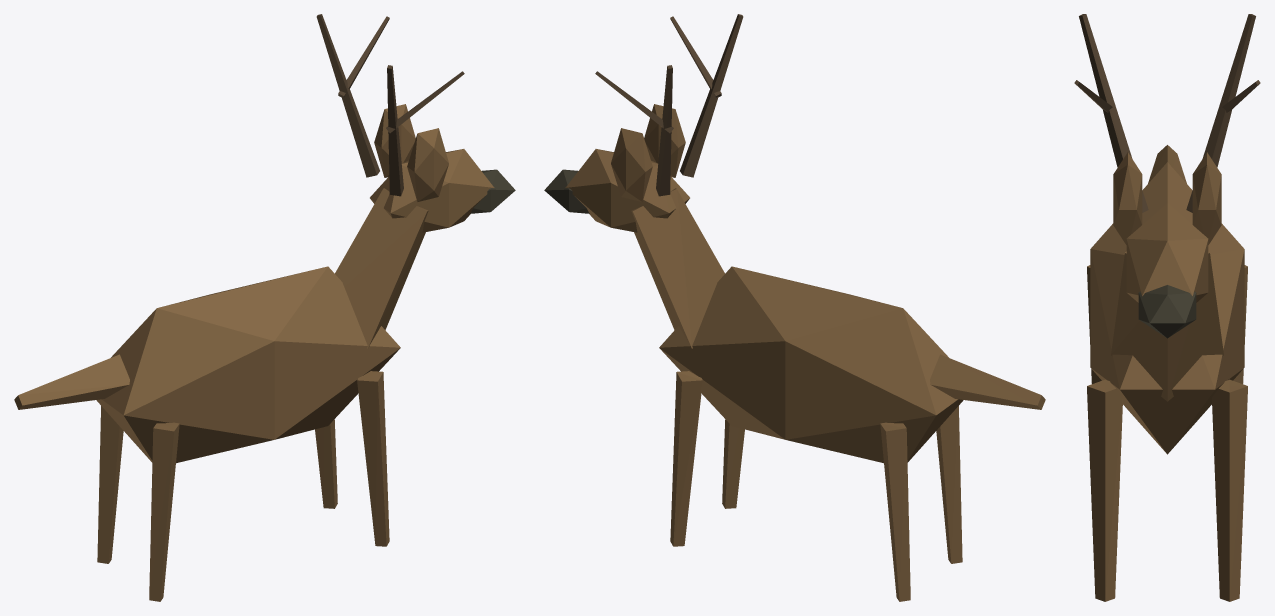
The model's file is deer-far.glb.
The picture shows the model from 3 angles, left to right: view 1: azimuth 30°, elevation 25°; view 2: azimuth 150°, elevation 25°; view 3: azimuth 270°, elevation 25°; orthographic projection. The views are drawn at different scales.
Parts seen in each view (by area): view 1: world-scenery/deer-far; view 2: world-scenery/deer-far; view 3: world-scenery/deer-far.
Part boxes in pixels (bbox=[...]): world-scenery/deer-far: bbox=[14, 14, 515, 601]; world-scenery/deer-far: bbox=[544, 14, 1045, 601]; world-scenery/deer-far: bbox=[1074, 14, 1260, 601].
Bounding box in the file's own units: 2.41 × 2.28 × 0.6589.
